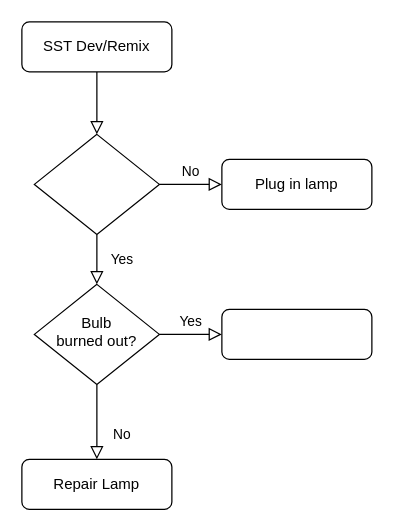
The diagram is 394 pixels wide and 531 high, and some of its shapes have lost their labels. The centre of each missing label's shape, as x and y in pixels:
Lamp plugged in?: the point at 96,183
Replace Bulb: the point at 296,333
